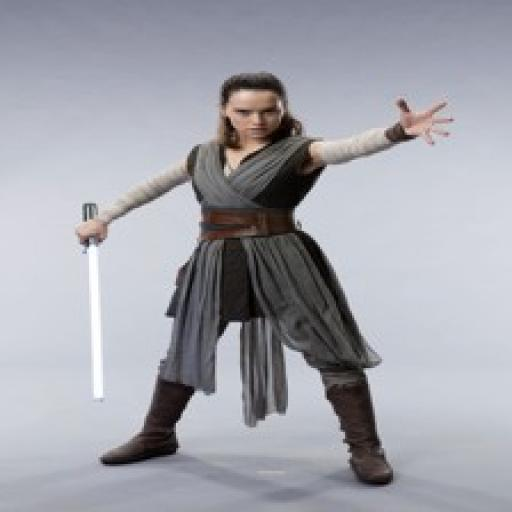human: (71, 74, 460, 483)
lightsaber: (76, 194, 113, 408)
